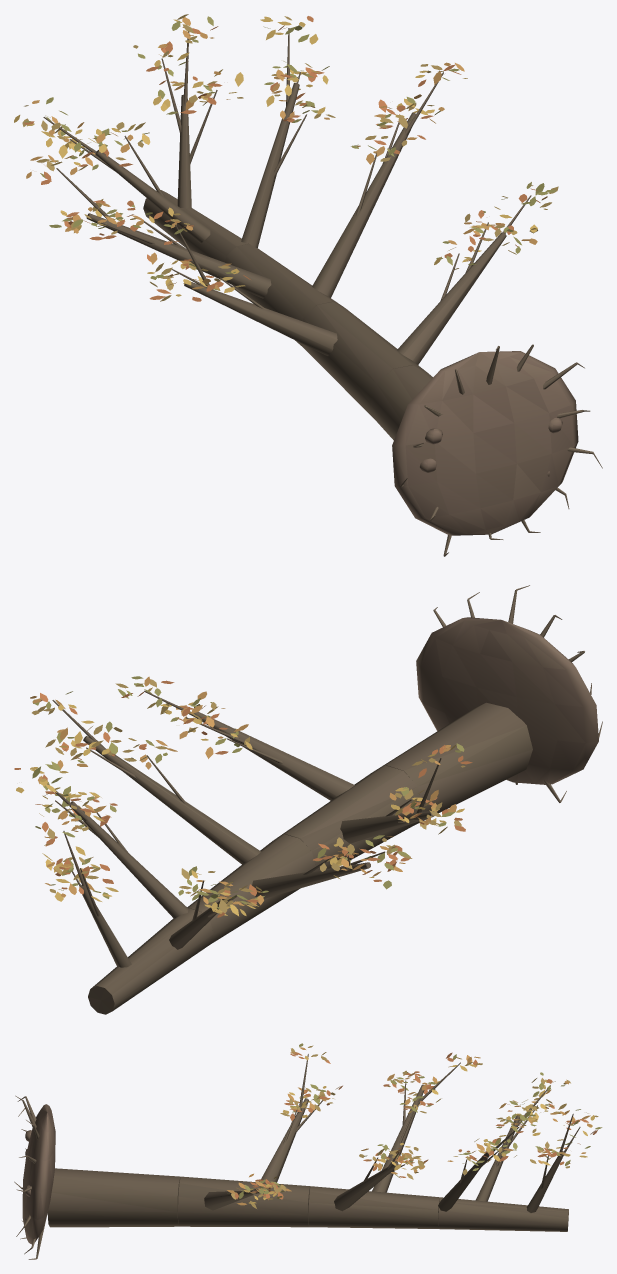
Rendered from storm_tree_fallen_a.glb.
The picture shows the model from 3 angles, top to bottom: view 1: azimuth 30°, elevation 25°; view 2: azimuth 150°, elevation 25°; view 3: azimuth 270°, elevation 25°; orthographic projection. The views are drawn at different scales.
Visible parts, largest first — view 1: body; view 2: body; view 3: body.
Boxes of the visible parts, box(x1,y1,x2,y2) form: body: box(14, 14, 602, 556); body: box(14, 585, 602, 1014); body: box(14, 1043, 602, 1259).
Size of what is drawn, in the model's own units: 5.66 by 3.33 by 10.24.
